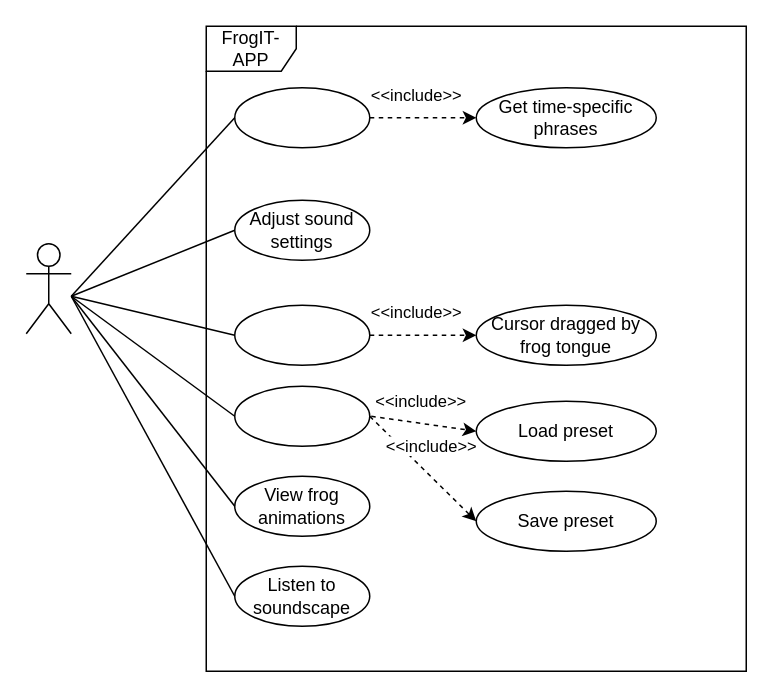
The diagram is 773 pixels wide and 698 high, and some of its shapes have lost their labels. Here are the shapes that lost their labels. From the top down, the centre of each, then its label:
point 301,117: Click frog
point 48,288: User
point 301,334: Get trolled by frogs
point 301,415: Create soundscape
